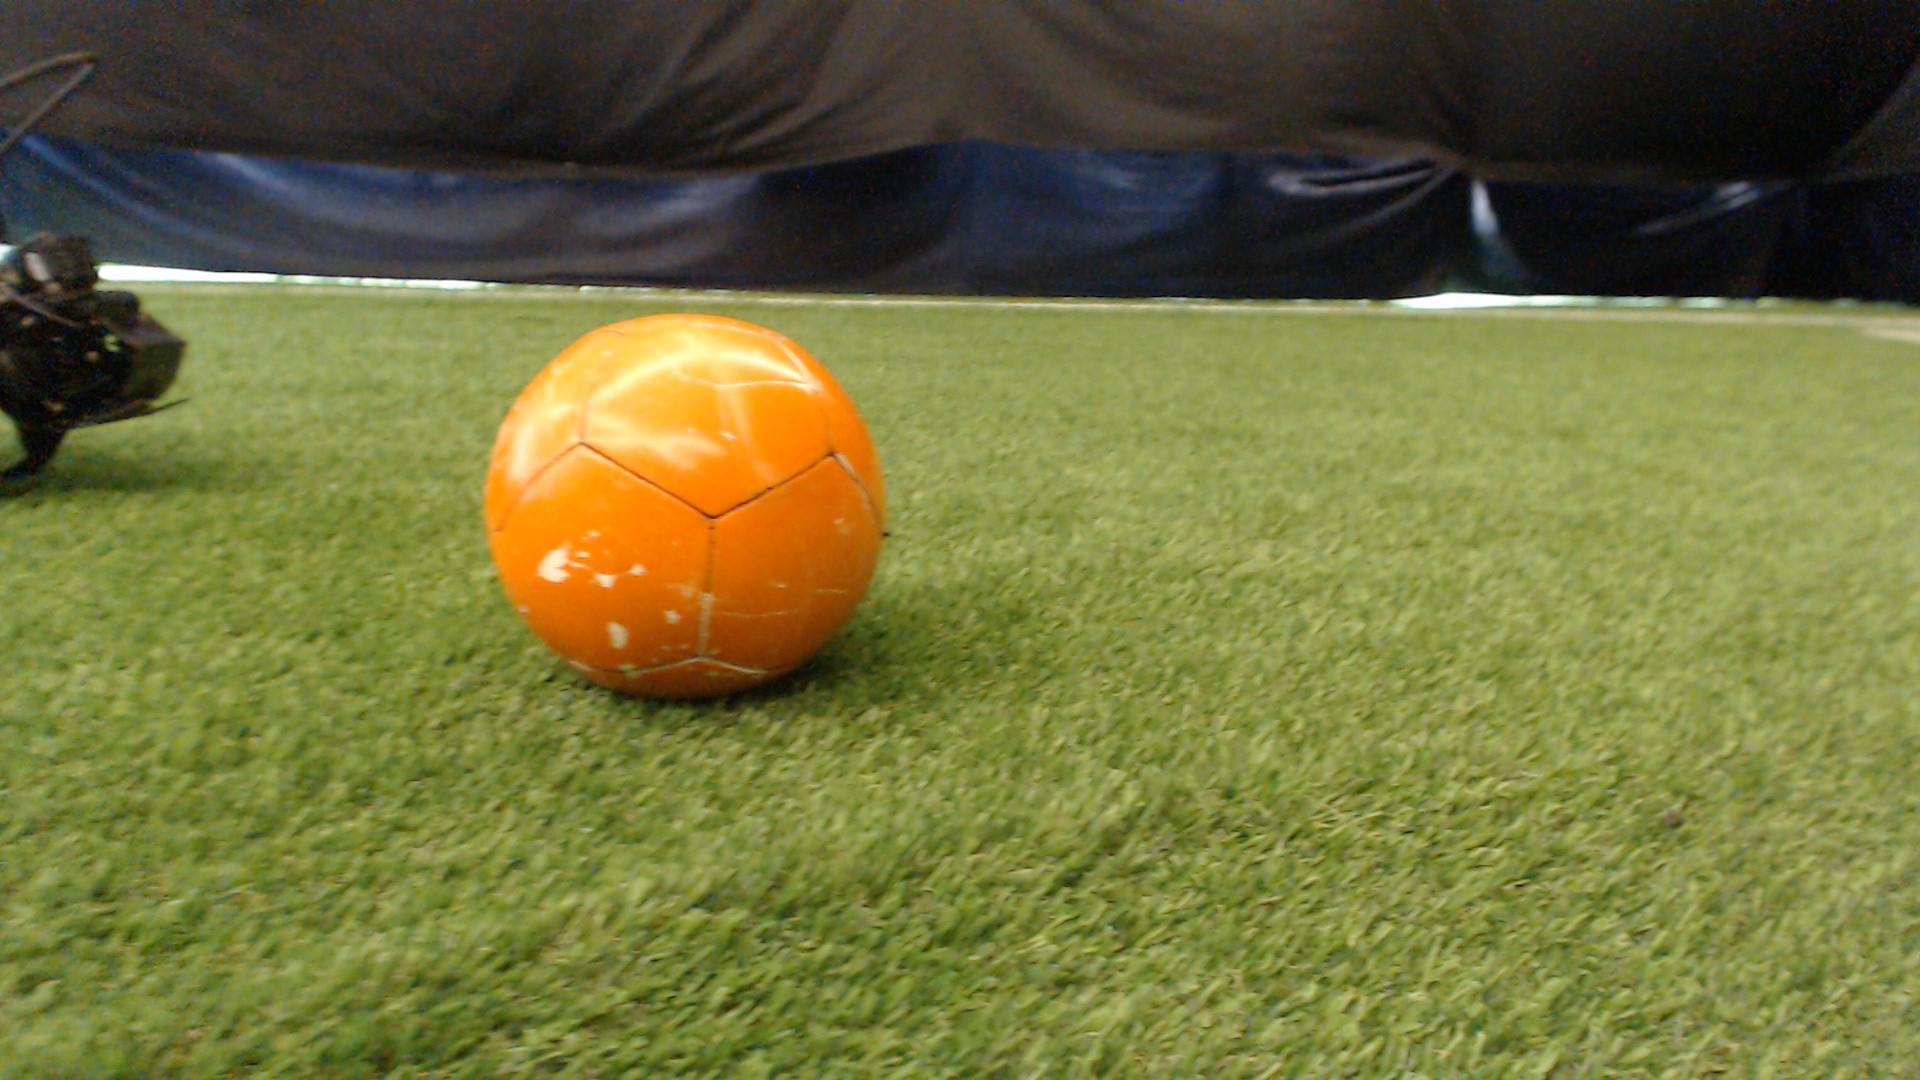bola: (455, 265, 936, 737)
